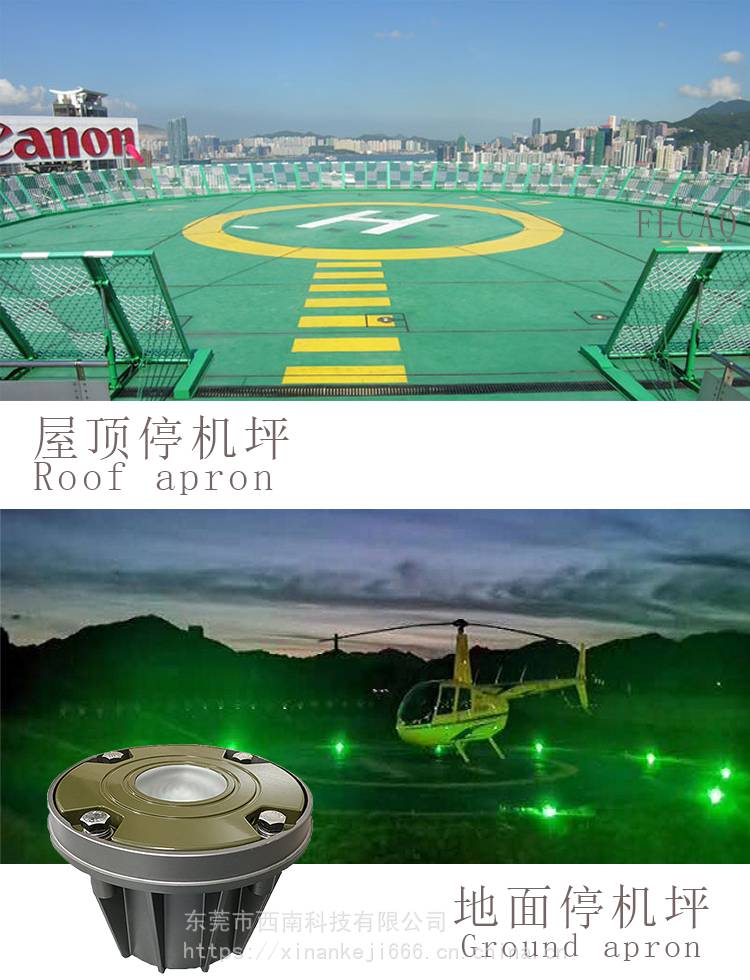H: (295, 210, 440, 237)
